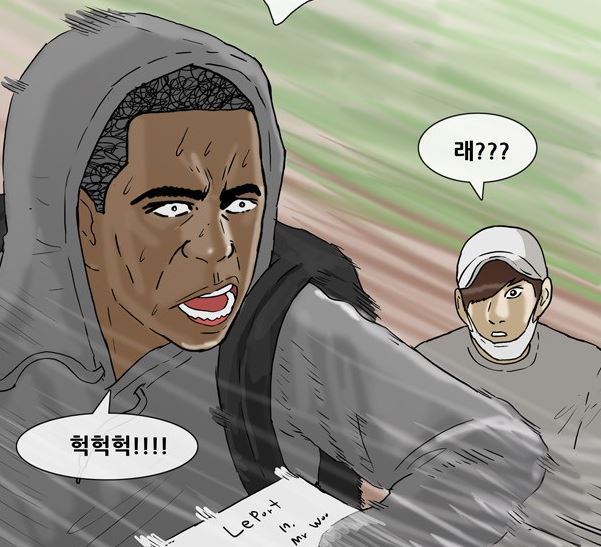hat: (452, 223, 553, 291)
